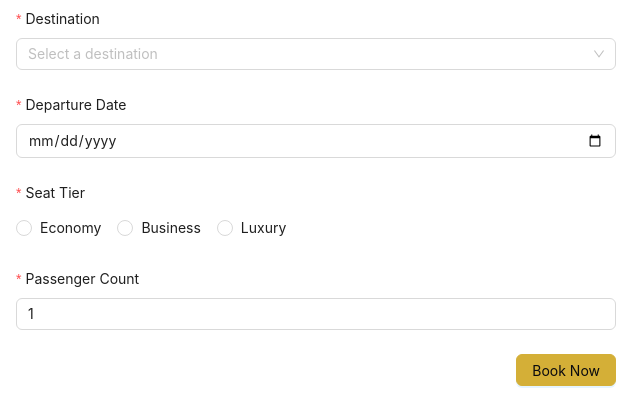
BookingForm › empty submit shows required errors for destination, date, and seat tier
The width and height of the screenshot is (637, 407).
Note: Clear passengerCount default so it also triggers required
Click the button "Book Now": (566, 370) [516,354,616,386]
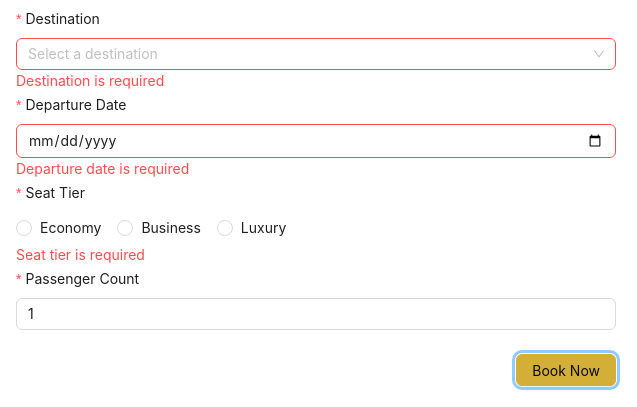
Result: the text "Destination is required" is shown at [16,72,164,89]
Result: the text "Departure date is required" is shown at [16,160,189,177]
Result: the text "Seat tier is required" is shown at [16,246,145,263]
